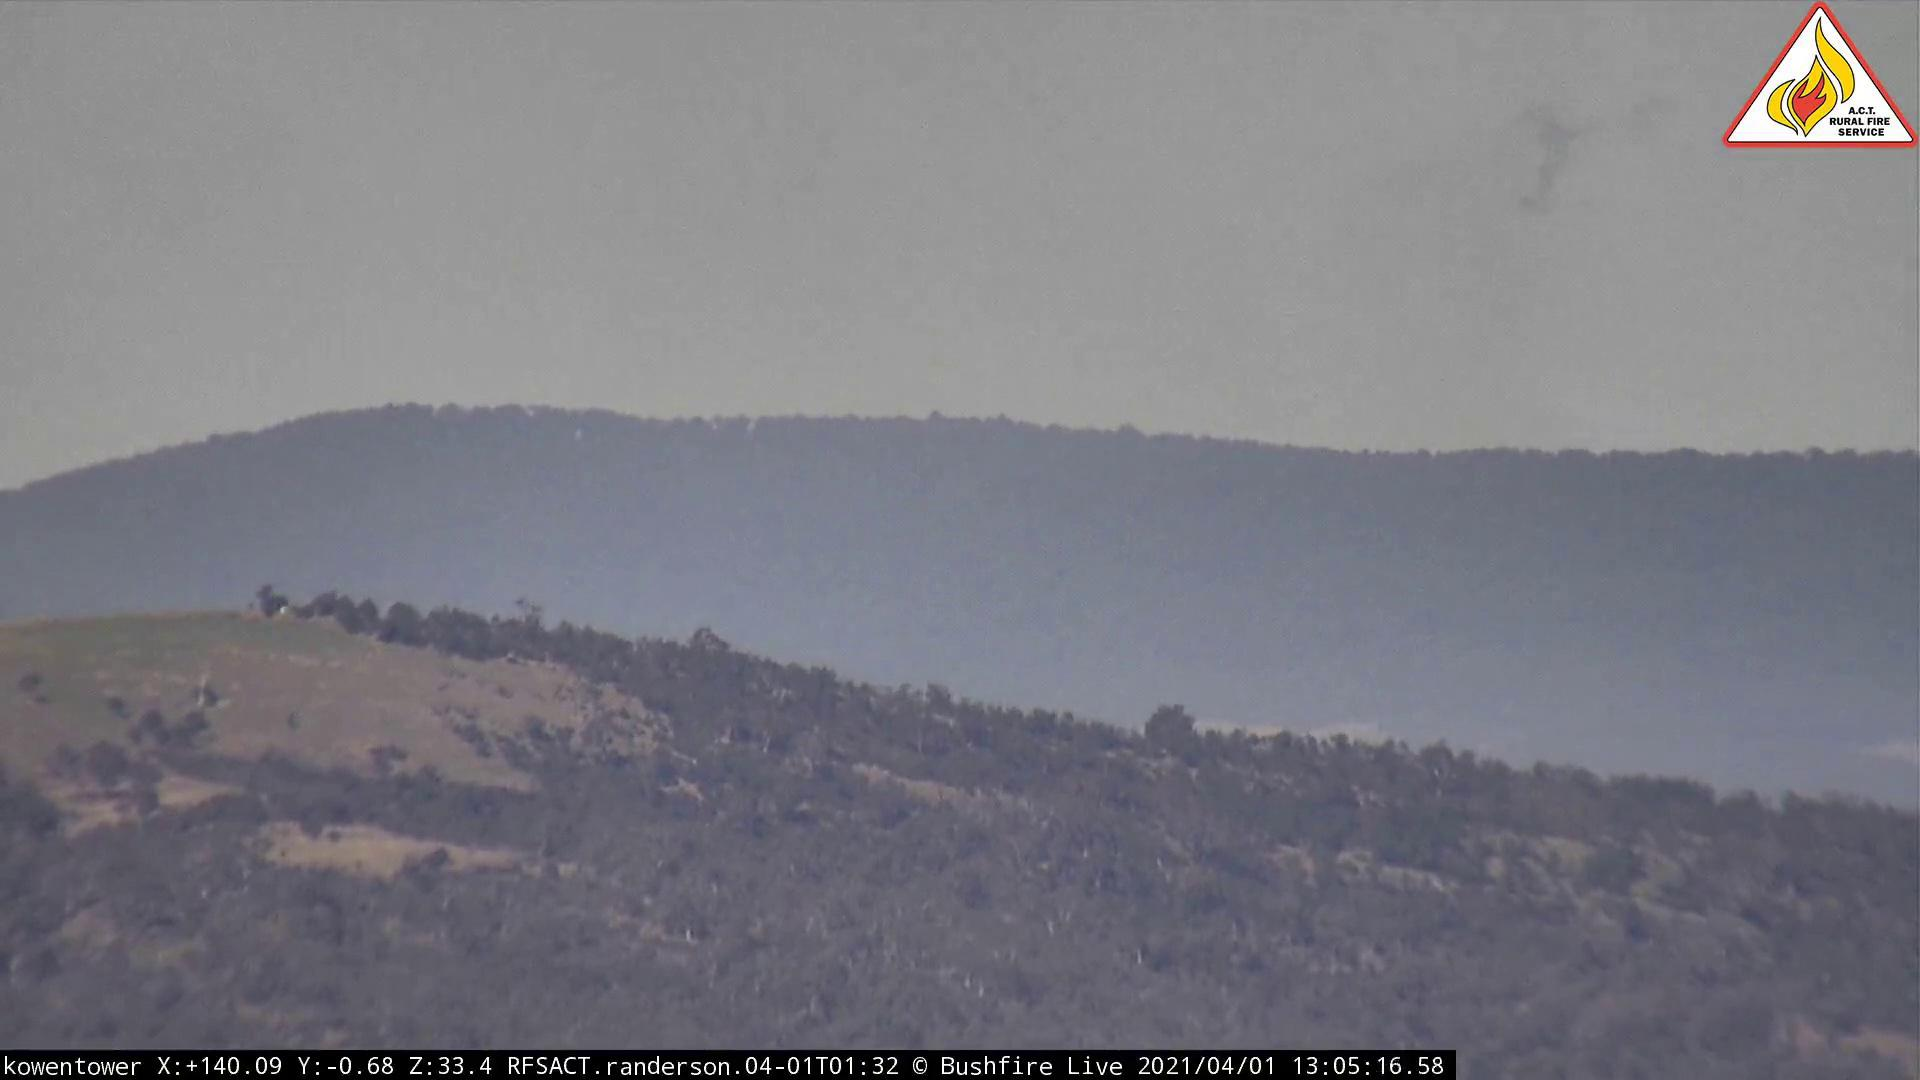instance_salient_object: (1476, 90, 1665, 314)
